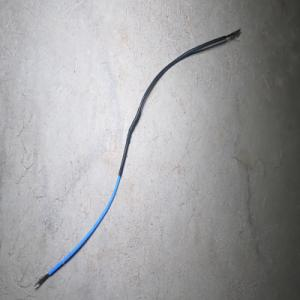Wire: (33, 27, 241, 289)
